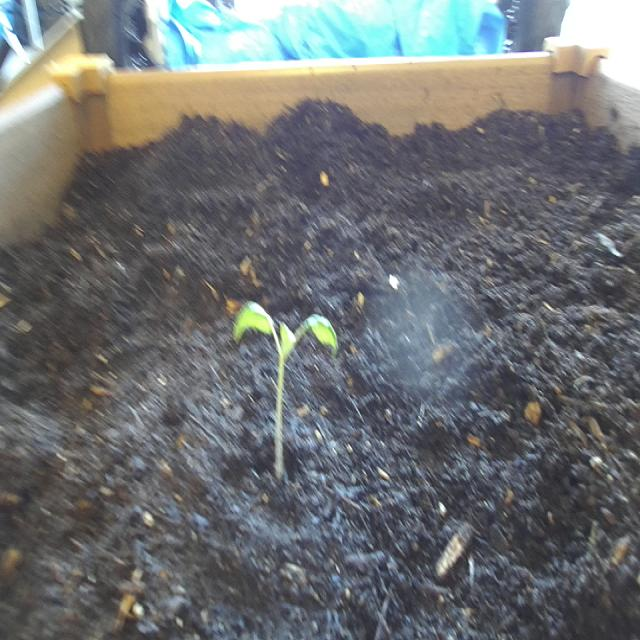Healthy: (230, 290, 340, 493)
